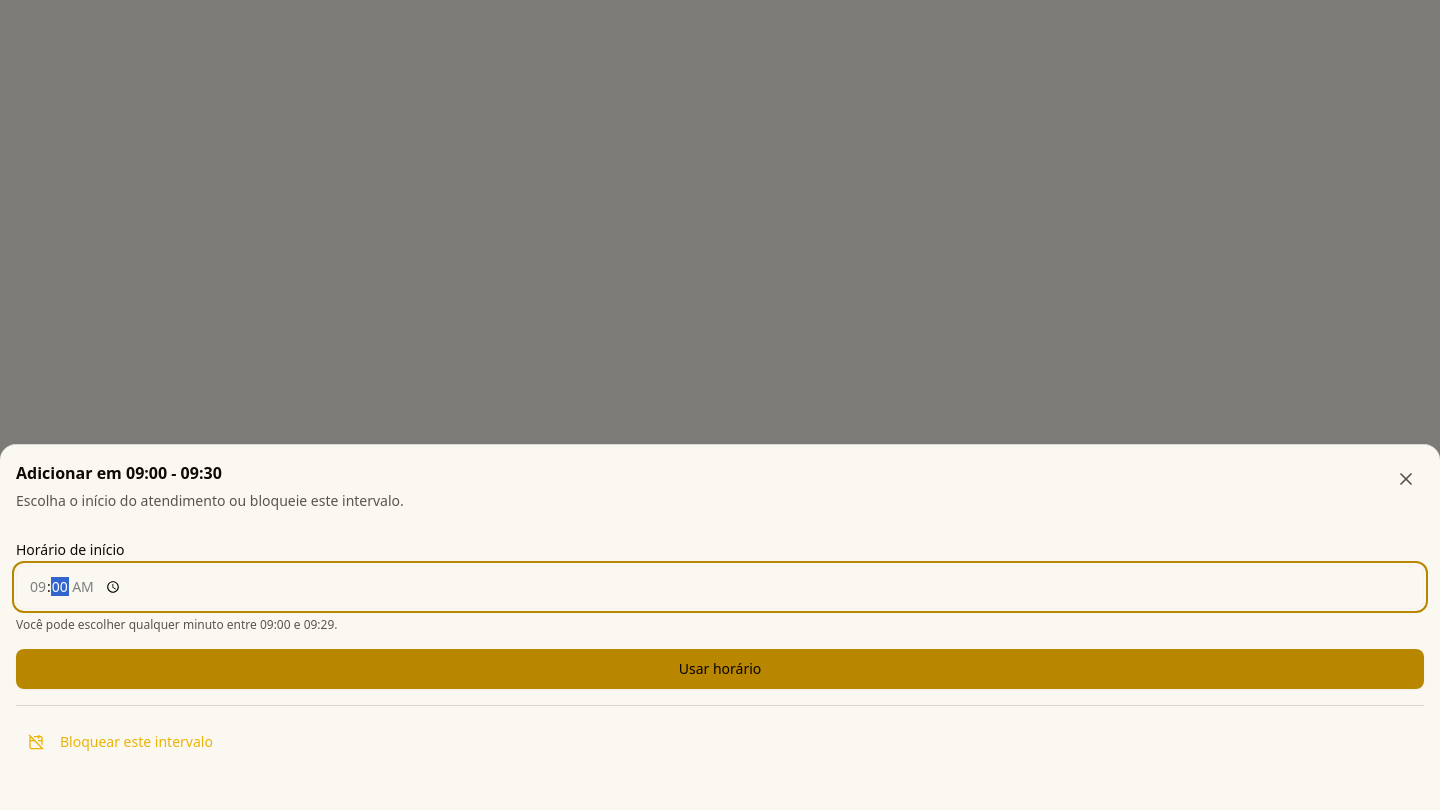
Test case: SlotActionSheet › mostra loading spinner no botão principal enquanto navega
Click the button "Usar horário".
click(720, 669)  # box [16,649,1424,689]
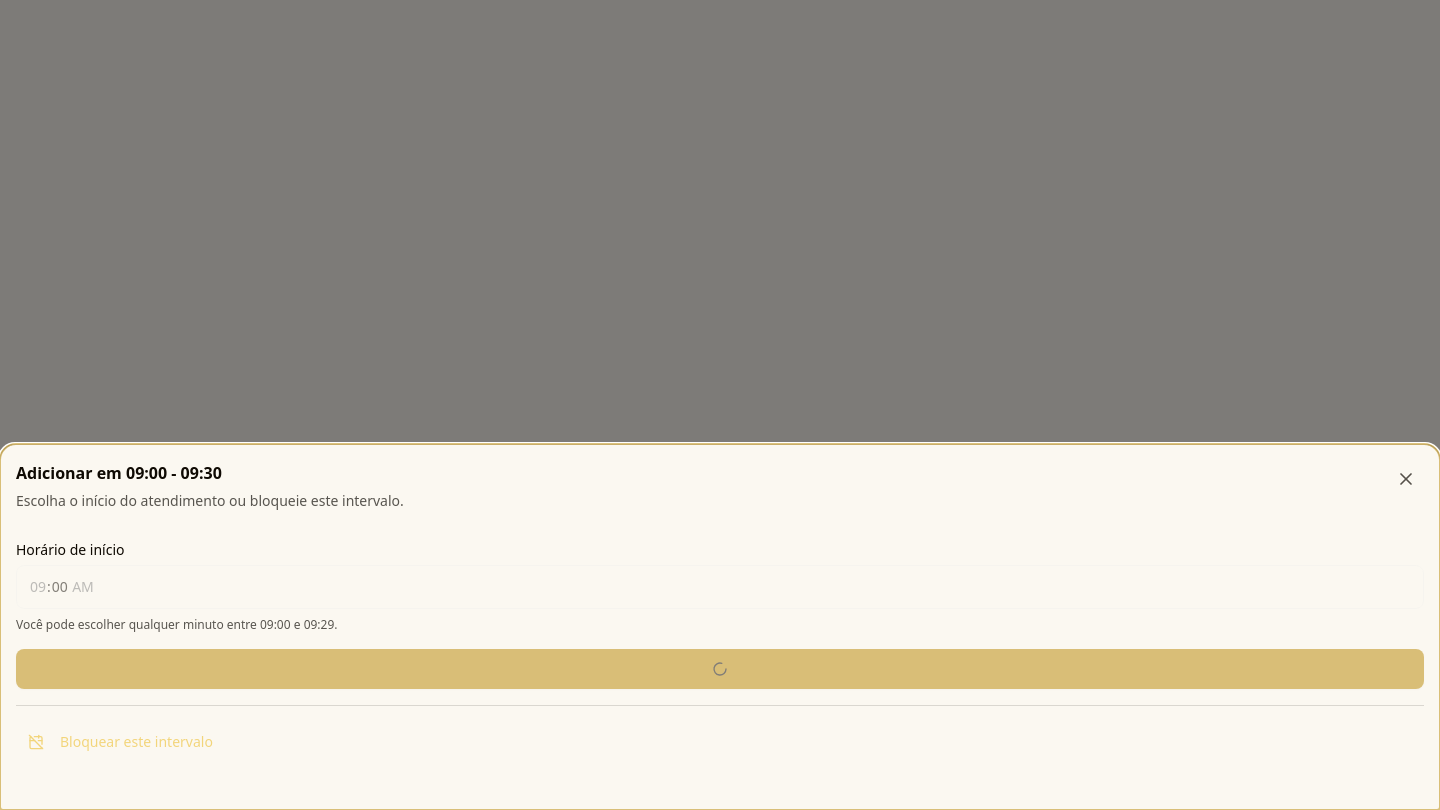
Result: the icon with test id "loading-spinner" is shown at [712,661,728,677]
